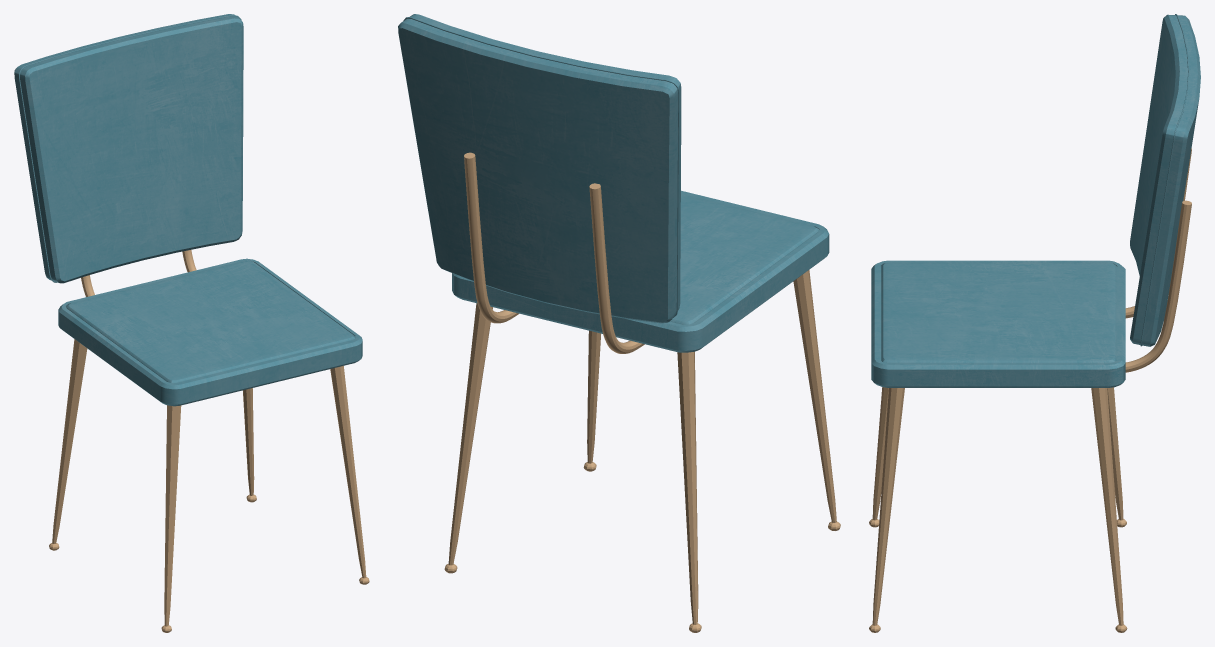
The model's file is chair.fbx.
3 views of the same model, side by side, from view 1: azimuth 30°, elevation 25°; view 2: azimuth 150°, elevation 25°; view 3: azimuth 270°, elevation 25° (orthographic). The views are drawn at different scales.
Parts seen in each view (by area): view 1: chair; view 2: chair; view 3: chair.
Part boxes in pixels (left/top/right/bottom): chair: left=14, top=14, right=369, bottom=632; chair: left=398, top=14, right=840, bottom=632; chair: left=869, top=14, right=1200, bottom=632.
Bounding box in the file's own units: 0.5558 × 1.11 × 0.6527.
1 material, 1 textured.
